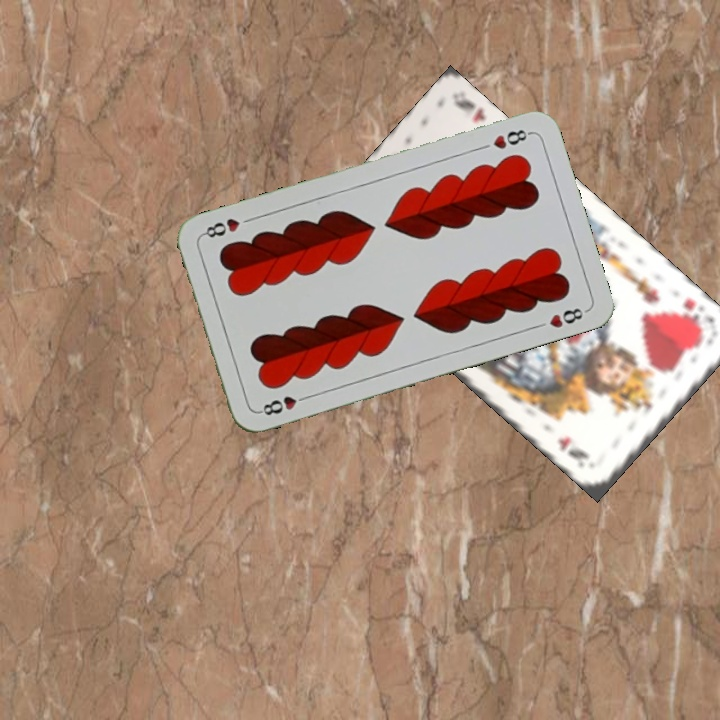H8: (255, 391, 312, 418), (489, 125, 534, 152)
HK: (679, 294, 718, 331)
